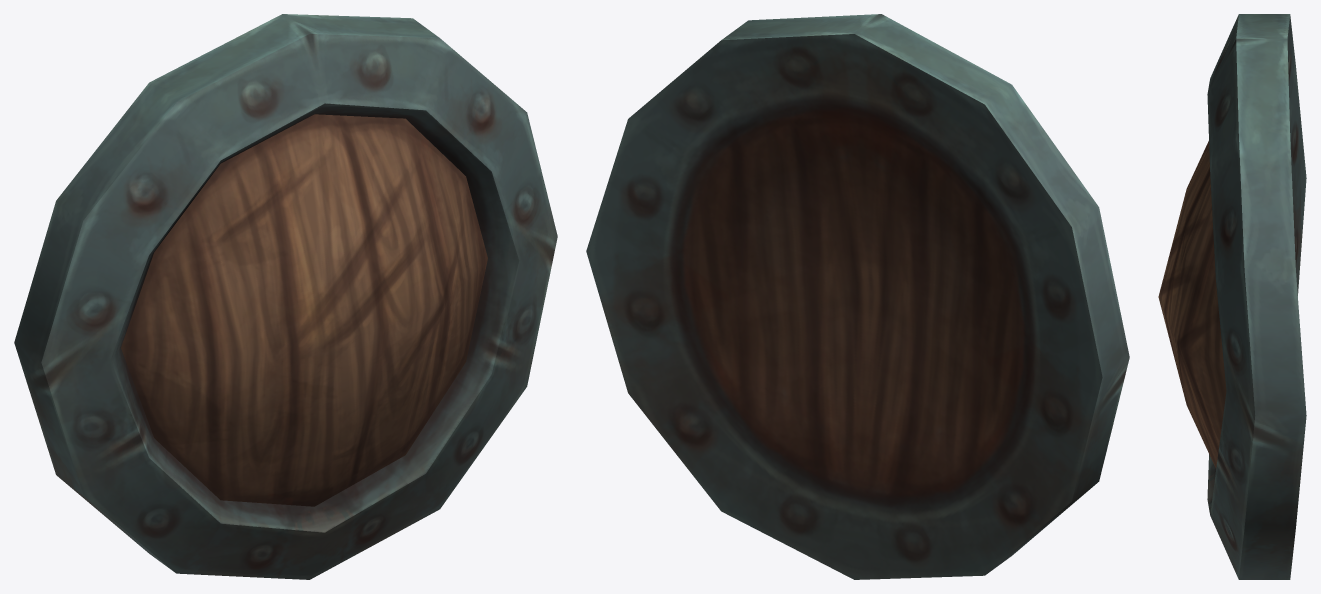
File: shield.FBX
The picture shows the model from 3 angles, left to right: view 1: azimuth 30°, elevation 25°; view 2: azimuth 150°, elevation 25°; view 3: azimuth 270°, elevation 25°; orthographic projection. The views are drawn at different scales.
Visible parts, largest first — view 1: shield; view 2: shield; view 3: shield.
Boxes of the visible parts, bbox=[...] form: shield: bbox=[14, 14, 557, 579]; shield: bbox=[586, 14, 1129, 579]; shield: bbox=[1158, 14, 1306, 579].
Size of the model in its own units: 38.02 by 38.42 by 10.01.
